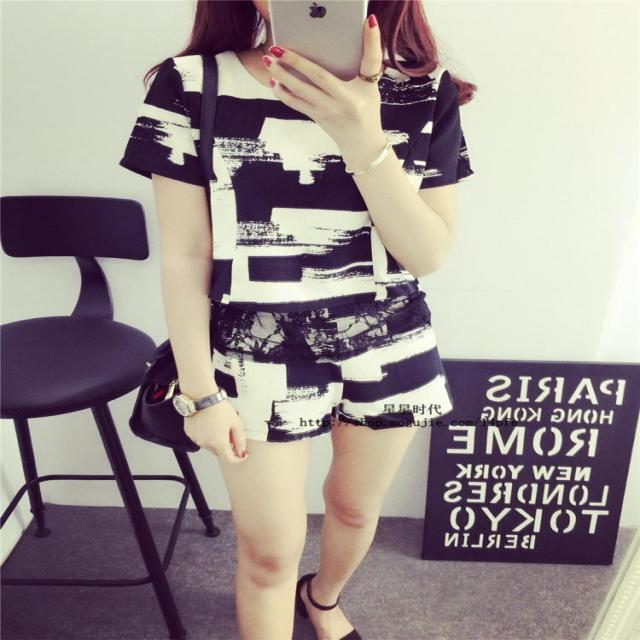short-sleeve-dress: (99, 35, 475, 481)
